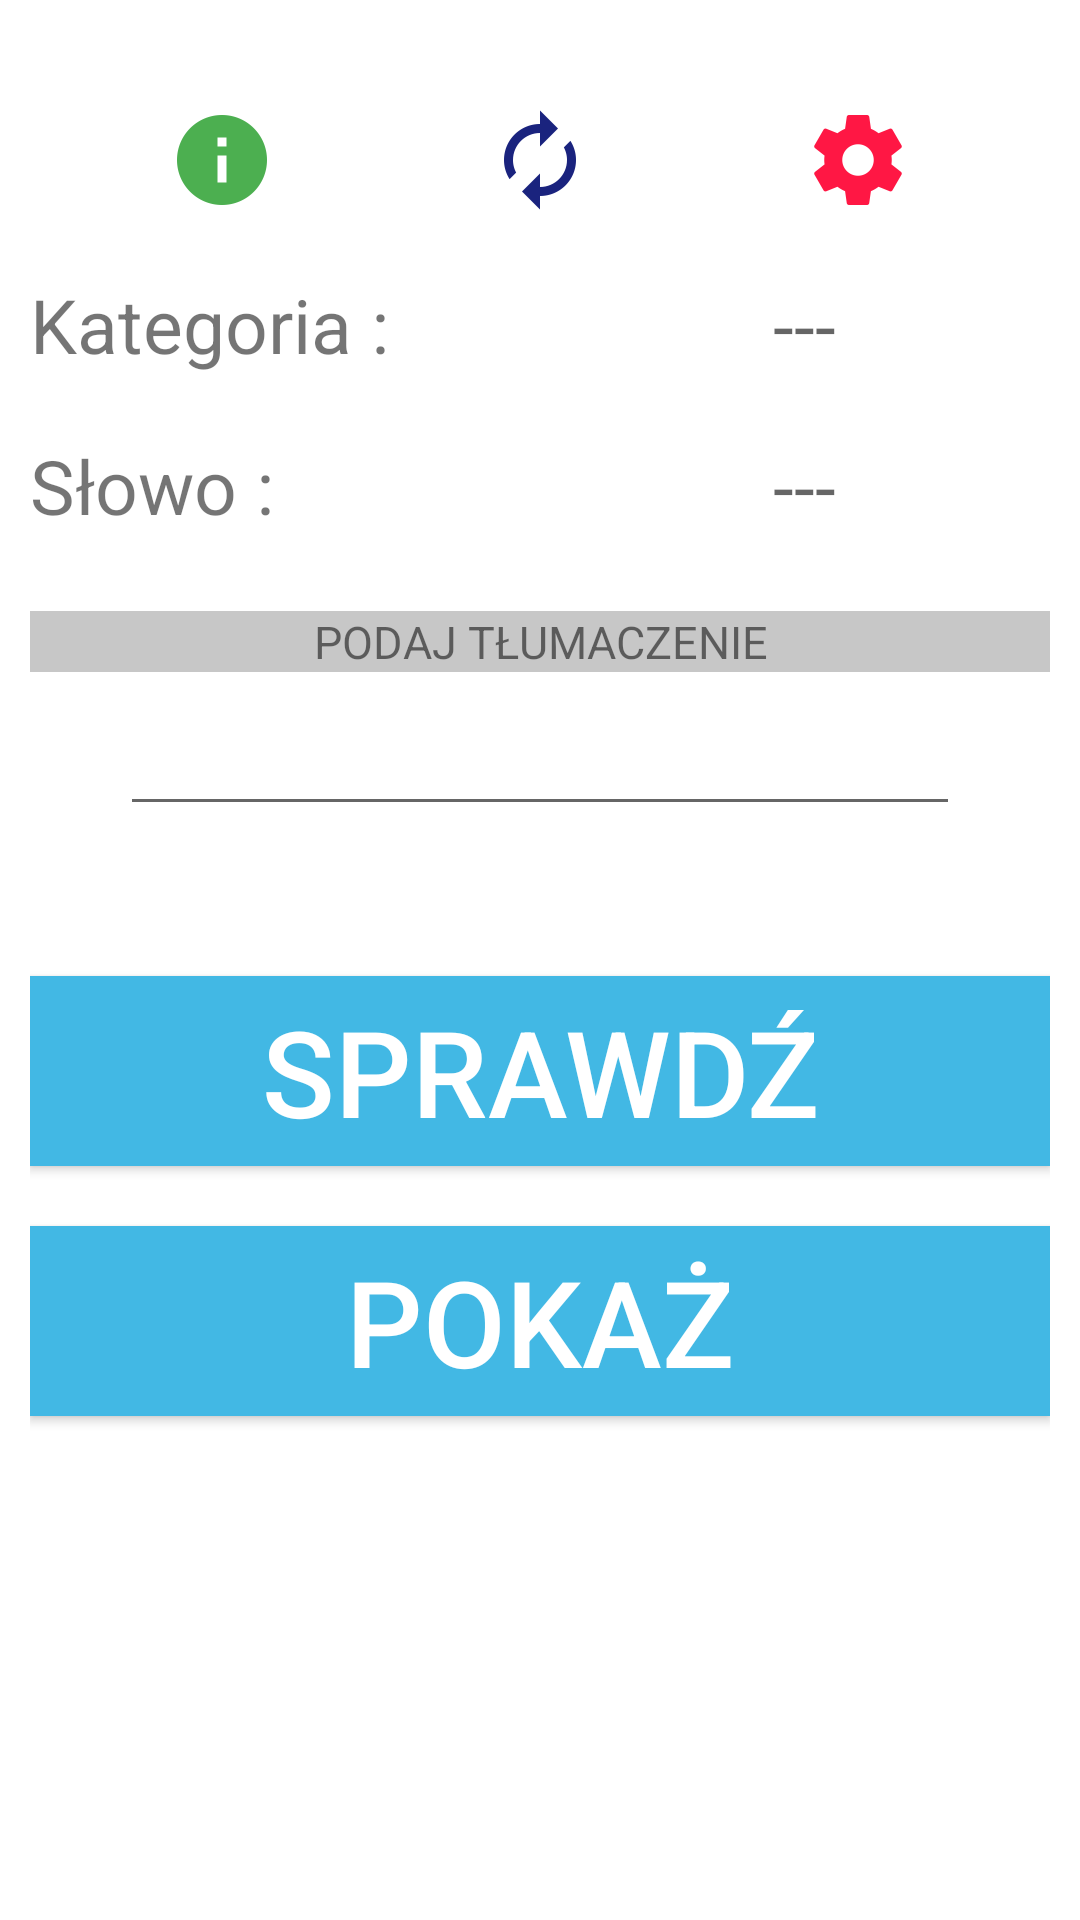

Icon click points for this 1080 × 1920 phone screenshot, format (x,y):
info: (222,160)
refresh: (540,160)
settings: (858,160)
